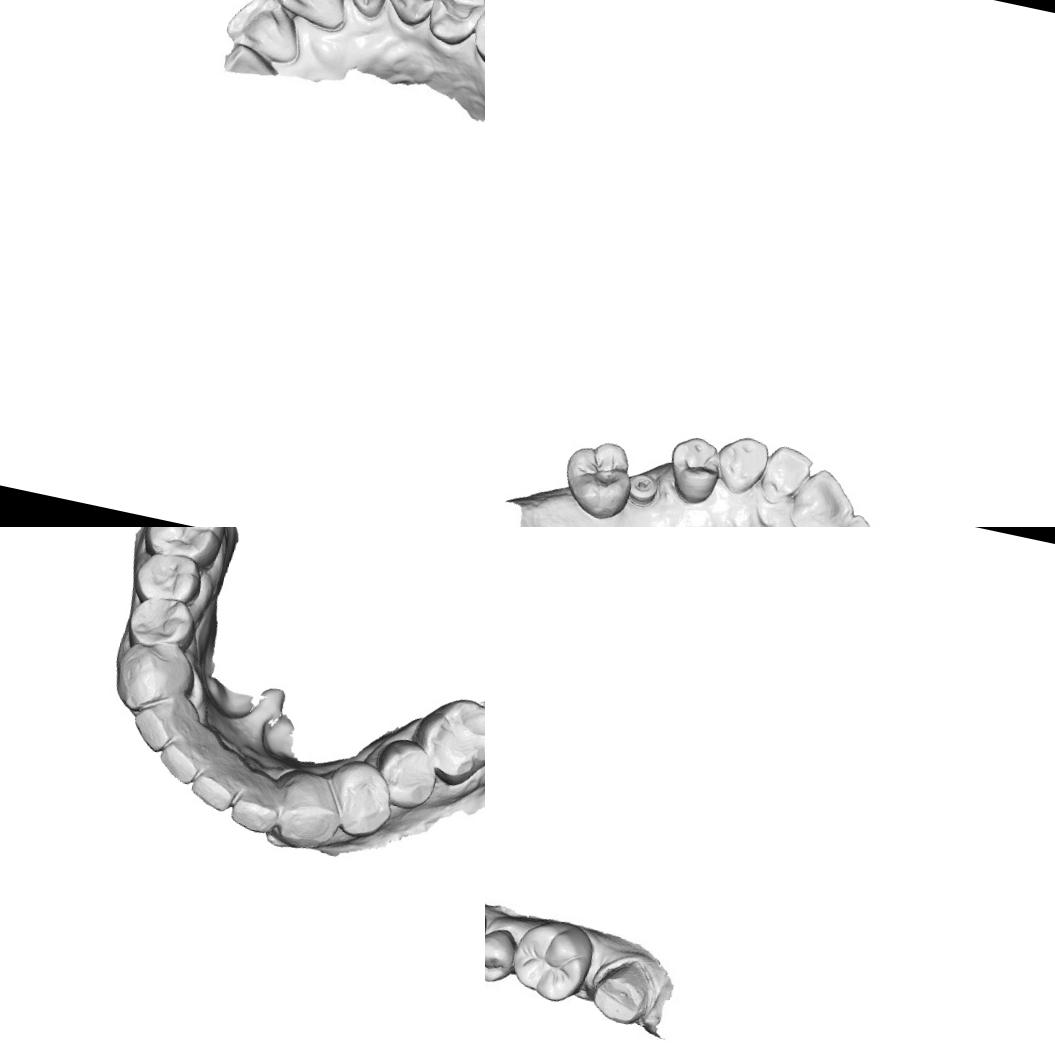canine: (109, 636, 200, 724), (268, 766, 346, 856), (709, 430, 773, 501), (378, 0, 446, 30)
crown: (586, 951, 660, 1032)
implant_minus: (624, 471, 662, 510)
incisor: (220, 0, 310, 67), (785, 464, 862, 527), (755, 442, 816, 510), (263, 0, 356, 40), (125, 694, 184, 756), (224, 785, 287, 838), (186, 765, 245, 816), (152, 739, 204, 788), (318, 0, 393, 26)
molar: (504, 910, 600, 1011), (404, 688, 485, 793), (555, 433, 640, 525), (138, 527, 234, 566)
premolar: (321, 754, 399, 844), (370, 735, 443, 814), (660, 430, 727, 510), (130, 544, 207, 611), (122, 588, 200, 654), (423, 0, 485, 51), (485, 920, 519, 986), (464, 0, 485, 74)
